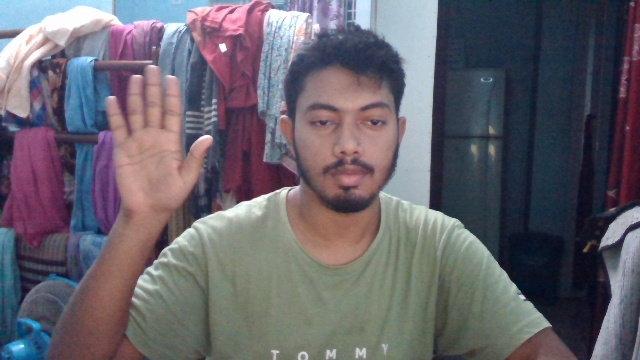hello: (99, 62, 217, 215)
